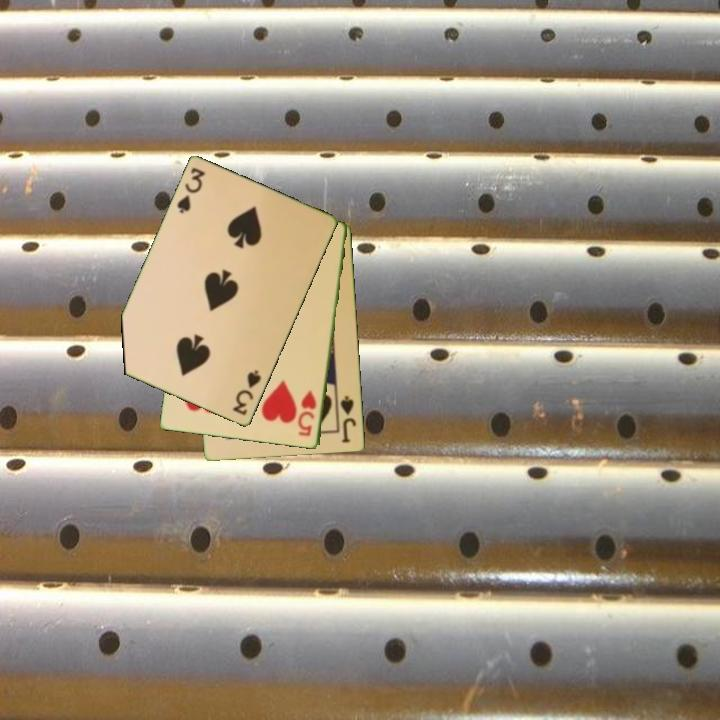3s: (173, 164, 209, 217), (229, 367, 265, 419)
5h: (295, 387, 320, 439)
Js: (337, 392, 359, 446)
